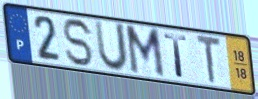2: (32, 14, 62, 64)
M: (123, 24, 167, 81)
S: (62, 17, 96, 69)
T: (195, 34, 223, 87), (162, 32, 190, 80)
U: (92, 18, 130, 74)
